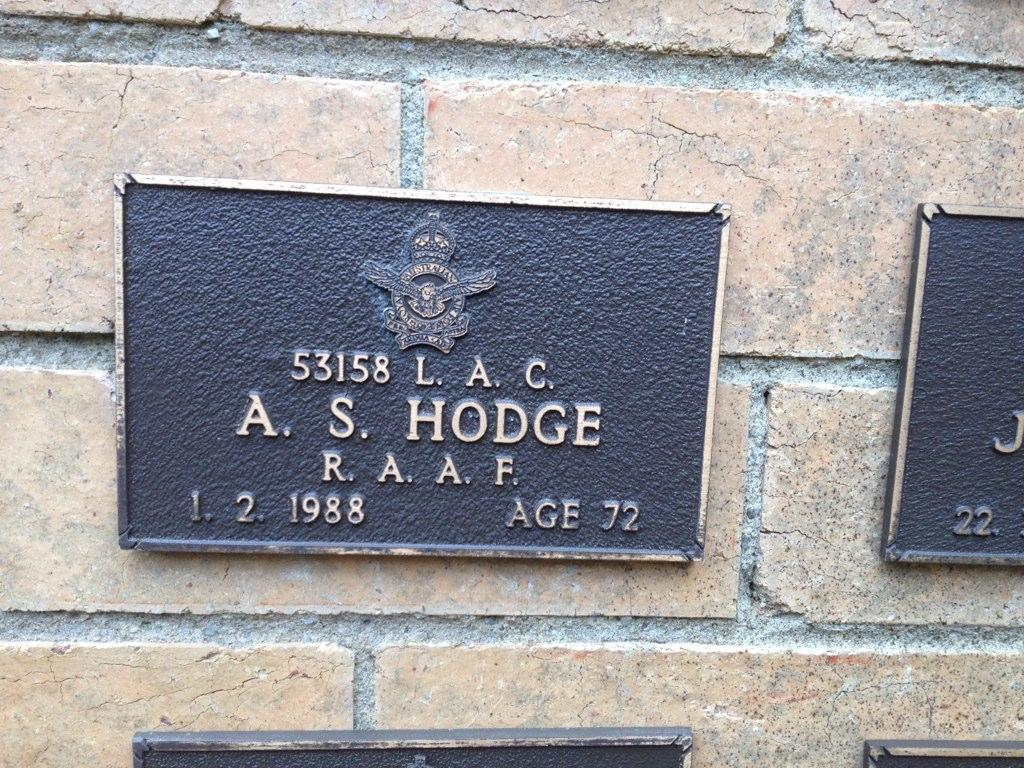plaque: (110, 166, 729, 568)
